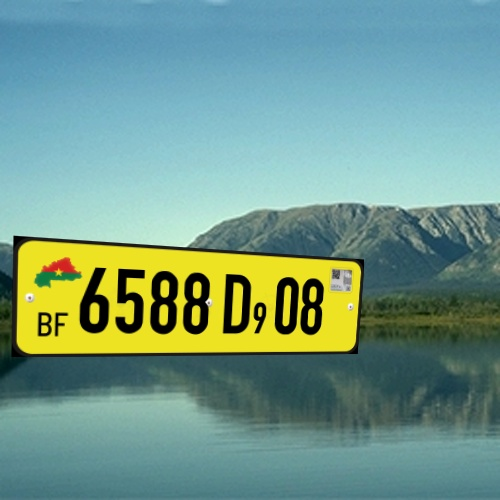plate: (7, 217, 376, 370)
